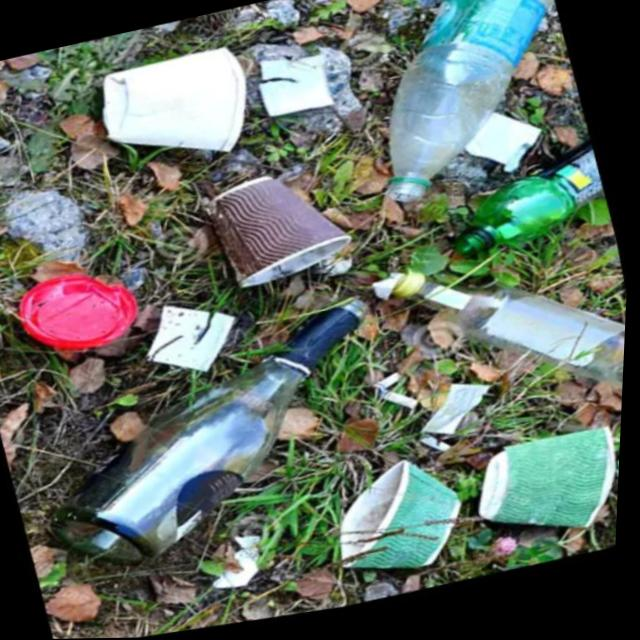foam box: (4, 262, 452, 626), (385, 218, 632, 449)
food: (239, 31, 355, 144)
leaf: (312, 0, 609, 234), (420, 108, 626, 289), (6, 252, 175, 391)
trash: (71, 7, 300, 206), (180, 146, 401, 332), (313, 439, 497, 622), (460, 400, 626, 565)
